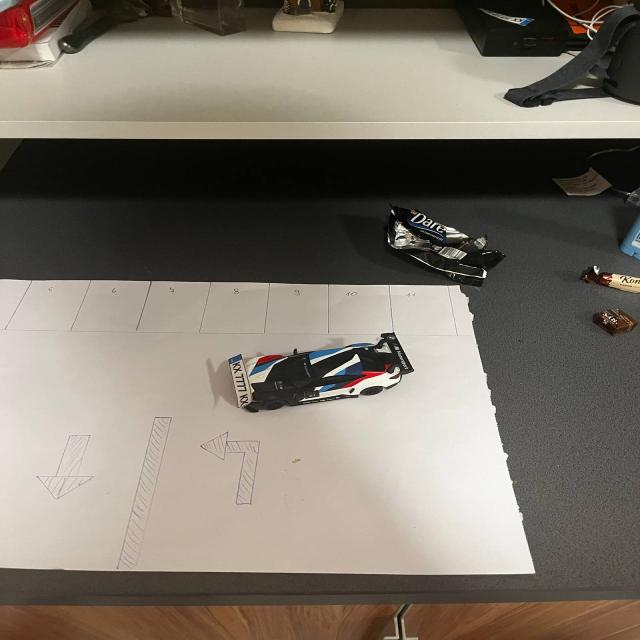KX 7777 KX: (222, 351, 258, 411)
